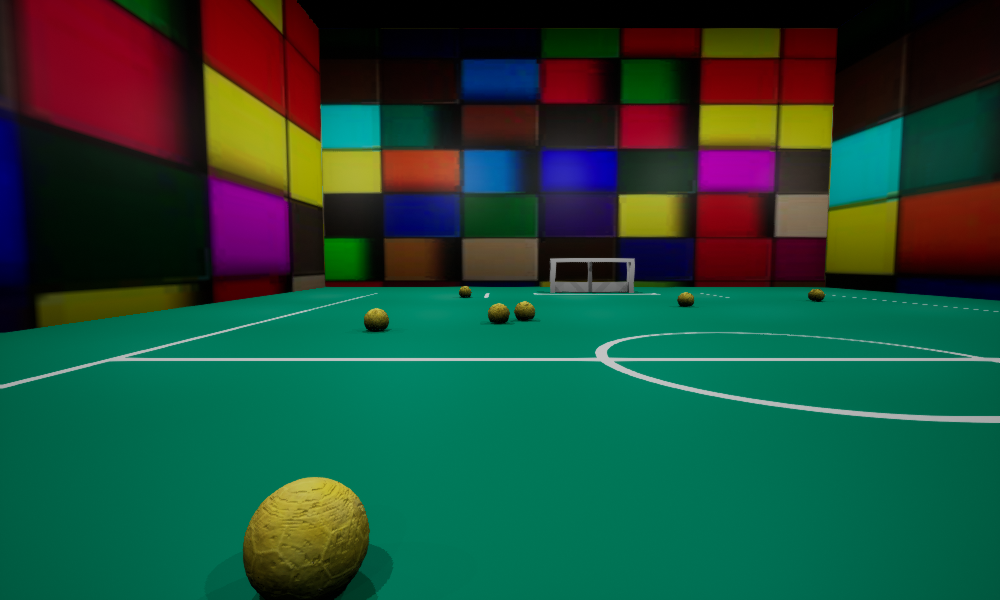b: (243, 477, 369, 599), (364, 308, 388, 330), (488, 303, 509, 322), (514, 301, 534, 320), (677, 292, 693, 306), (808, 289, 824, 300), (459, 286, 471, 296)
g: (550, 258, 634, 292)
